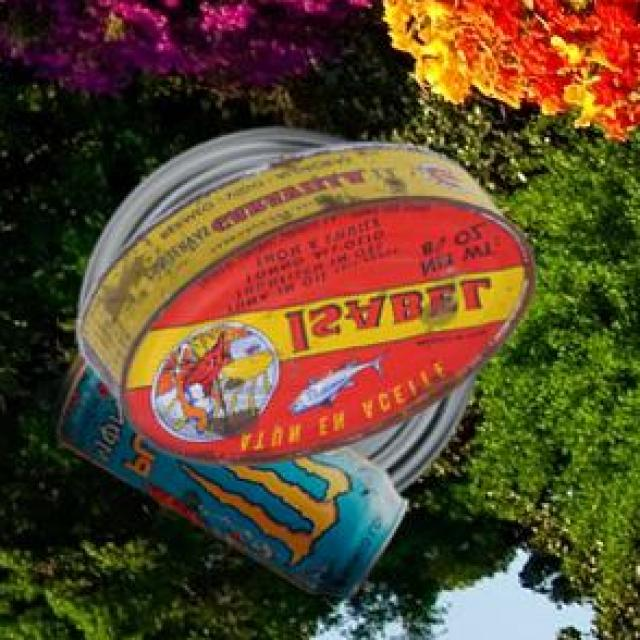logam: (75, 147, 532, 469), (49, 352, 404, 602), (77, 132, 411, 311), (343, 296, 471, 495)
